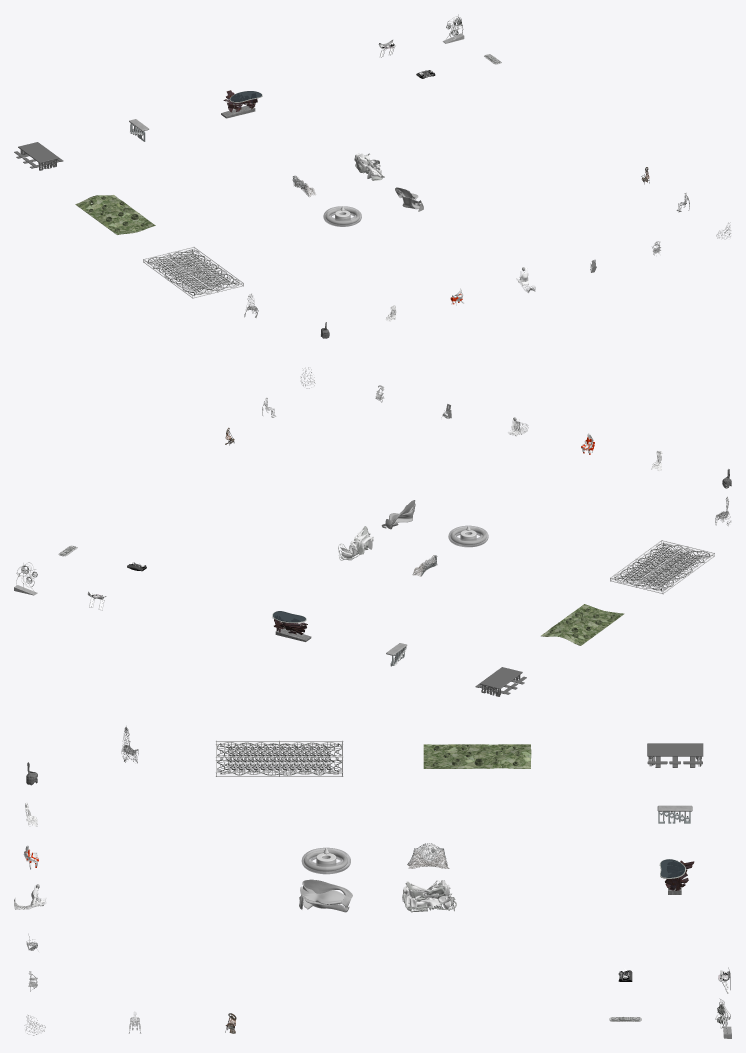
3 views of the same model, one above another, from view 1: azimuth 30°, elevation 25°; view 2: azimuth 150°, elevation 25°; view 3: azimuth 270°, elevation 25° (orthographic). The views are drawn at different scales.
Parts seen in each view (by area): view 1: 4.001, spooky-verdealip-carpet, BoardROOMTABLE-OG 1, Mesh_0.003, Torus.001, Merged Objects 1.001; view 2: 4.001, spooky-verdealip-carpet, BoardROOMTABLE-OG 1, Mesh_0.003, Torus.001, Merged Objects 1.001; view 3: 4.001, spooky-verdealip-carpet, Merged Objects.003, Merged Objects 1.001, BoardROOMTABLE-OG 1, Torus.001, Mesh_0.003, Mesh_2, Box.001.
Boxes of the visible parts, x1,y1,x2,y2 form: 4.001: [143, 246, 243, 298]; spooky-verdealip-carpet: [75, 195, 155, 234]; BoardROOMTABLE-OG 1: [14, 142, 63, 170]; Mesh_0.003: [221, 90, 262, 118]; Torus.001: [323, 206, 361, 226]; Merged Objects 1.001: [354, 153, 384, 180]; 4.001: [610, 540, 714, 594]; spooky-verdealip-carpet: [541, 604, 624, 645]; BoardROOMTABLE-OG 1: [475, 667, 526, 696]; Mesh_0.003: [272, 611, 311, 641]; Torus.001: [448, 525, 488, 547]; Merged Objects 1.001: [338, 526, 373, 560]; 4.001: [216, 740, 343, 776]; spooky-verdealip-carpet: [423, 744, 531, 768]; Merged Objects.003: [299, 879, 352, 912]; Merged Objects 1.001: [402, 880, 456, 912]; BoardROOMTABLE-OG 1: [647, 743, 703, 767]; Torus.001: [301, 847, 350, 874]; Mesh_0.003: [659, 859, 694, 894]; Mesh_2: [407, 843, 449, 868]; Box.001: [657, 805, 692, 823].
Size of the model in its own units: 37.94 by 2.1 by 39.18.
Materials: 63 (17 with a texture image).
